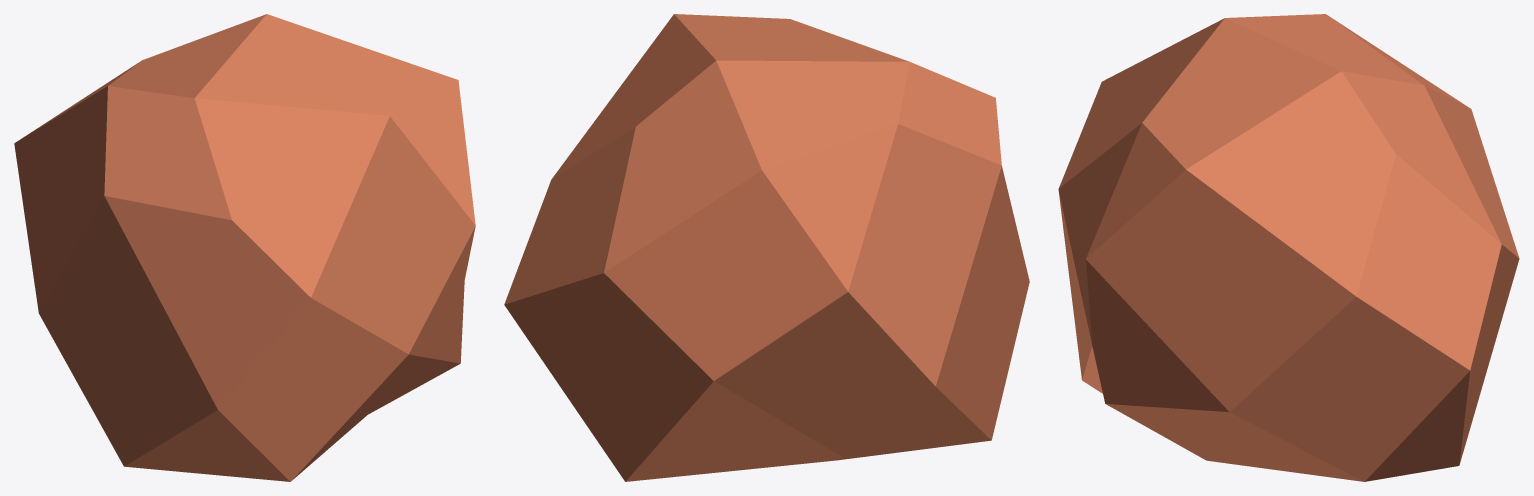
File: ENV_Cannonball1_Placeholder2.fbx
3 views of the same model, side by side, from view 1: azimuth 30°, elevation 25°; view 2: azimuth 150°, elevation 25°; view 3: azimuth 270°, elevation 25° (orthographic). The views are drawn at different scales.
Visible parts, largest first — view 1: Cannonball_1; view 2: Cannonball_1; view 3: Cannonball_1.
Part boxes in pixels (left/top/right/bottom): Cannonball_1: left=14, top=14, right=475, bottom=481; Cannonball_1: left=504, top=14, right=1029, bottom=481; Cannonball_1: left=1058, top=14, right=1519, bottom=481.
Bounding box in the file's own units: 81.36 × 77.55 × 73.93.
